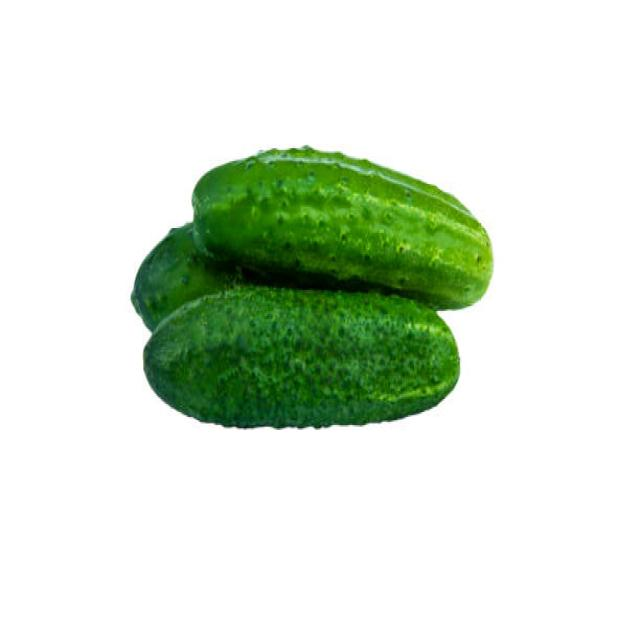cucumber: (192, 146, 493, 314), (143, 284, 461, 429)
